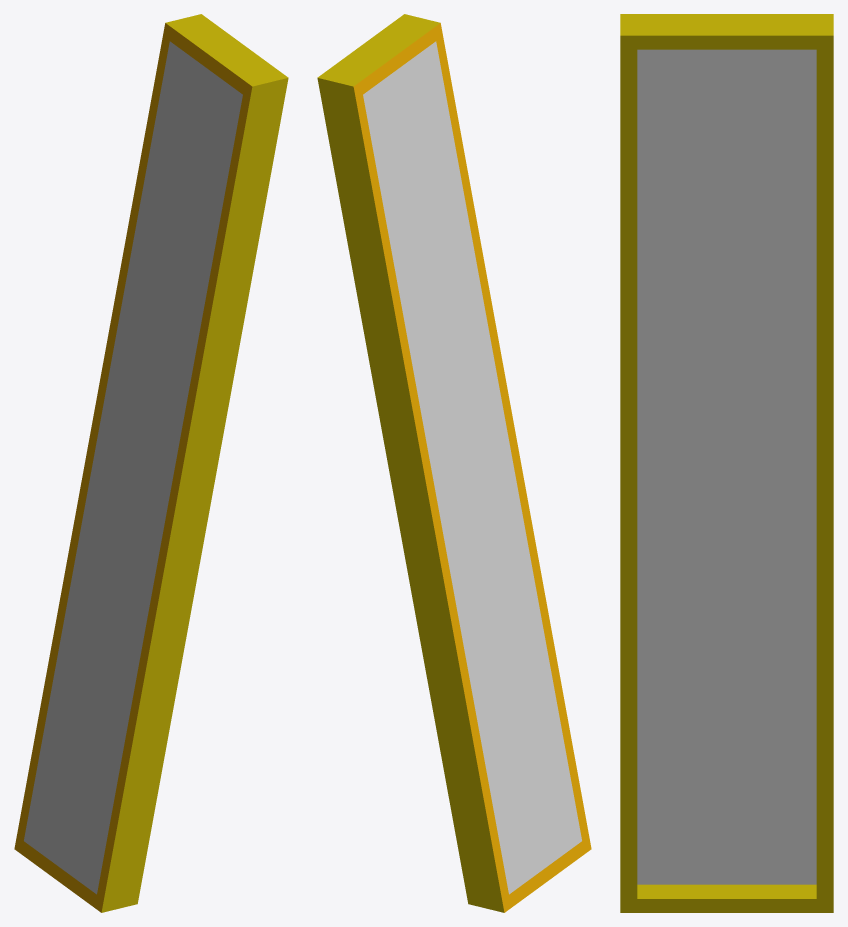
Rendered from window_slanted_1x1x5.dae.
3 renders of one model, left to right at view 1: azimuth 30°, elevation 25°; view 2: azimuth 150°, elevation 25°; view 3: azimuth 270°, elevation 25°, orthographic. The views are drawn at different scales.
Visible parts, largest first — view 1: Cube; view 2: Cube; view 3: Cube.
Boxes of the visible parts, box(x1,y1,x2,y2) form: Cube: box(14, 14, 288, 912); Cube: box(317, 14, 591, 912); Cube: box(620, 14, 833, 912).
Size of the model in its own units: 0.31 by 0.25 by 1.25.
